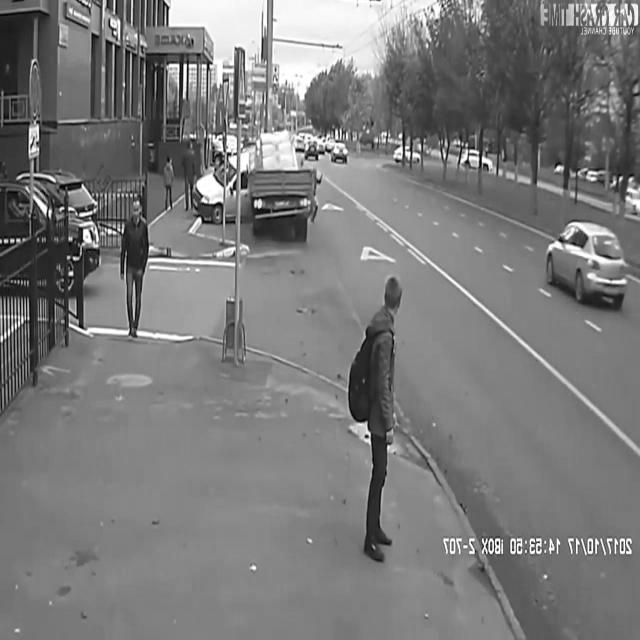accident: (192, 136, 318, 240)
non-accident: (0, 166, 104, 294), (296, 132, 356, 166)
